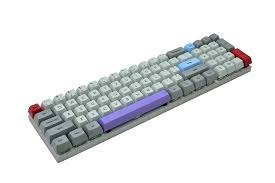keyboard: (15, 35, 255, 163)
